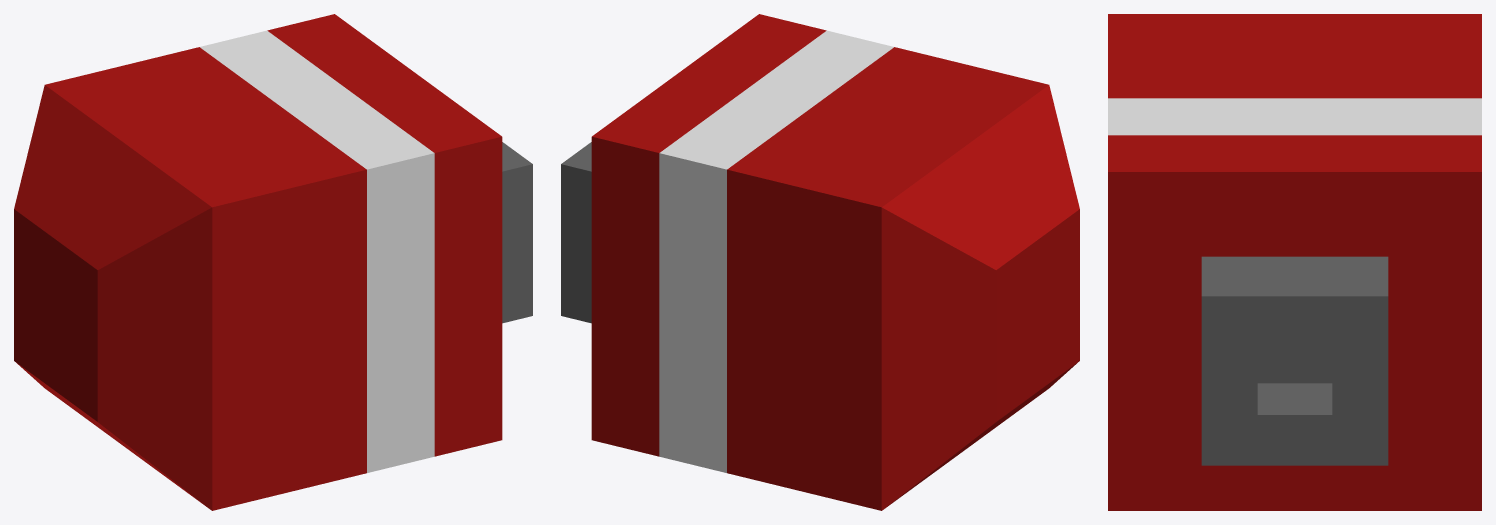
File: BOUM_GRENADE.fbx
The picture shows the model from 3 angles, left to right: view 1: azimuth 30°, elevation 25°; view 2: azimuth 150°, elevation 25°; view 3: azimuth 270°, elevation 25°; orthographic projection. The views are drawn at different scales.
Visible parts, largest first — view 1: Grenade; view 2: Grenade; view 3: Grenade.
Boxes of the visible parts, bbox=[...] form: Grenade: bbox=[14, 14, 532, 510]; Grenade: bbox=[561, 14, 1079, 510]; Grenade: bbox=[1108, 14, 1481, 510].
Size of the model in its own units: 300 by 200 by 200.
